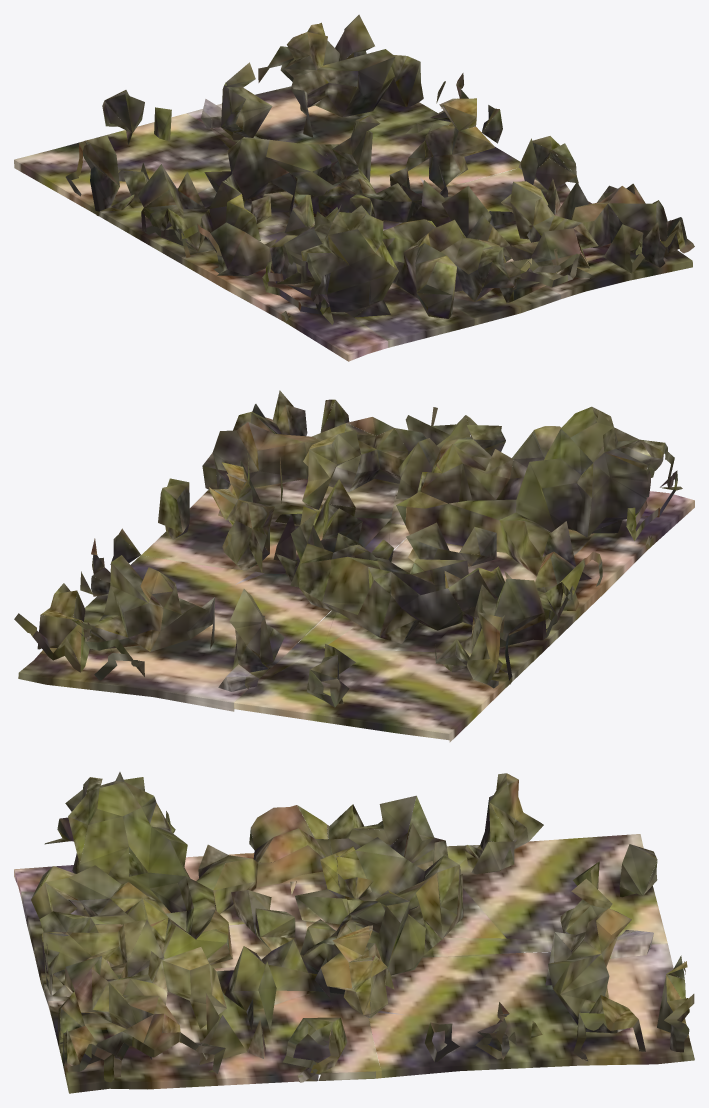
3 renders of one model, top to bottom at view 1: azimuth 30°, elevation 25°; view 2: azimuth 150°, elevation 25°; view 3: azimuth 270°, elevation 25°, orthographic. The views are drawn at different scales.
Parts seen in each view (by area): view 1: Mesh_0; view 2: Mesh_0; view 3: Mesh_0.
Boxes of the visible parts, <box> form: Mesh_0: <box>14,14,694,361</box>; Mesh_0: <box>14,390,694,742</box>; Mesh_0: <box>14,772,694,1093</box>.
Size of the model in its own units: 134 by 38.19 by 165.
Materials: 2 (2 with a texture image).
